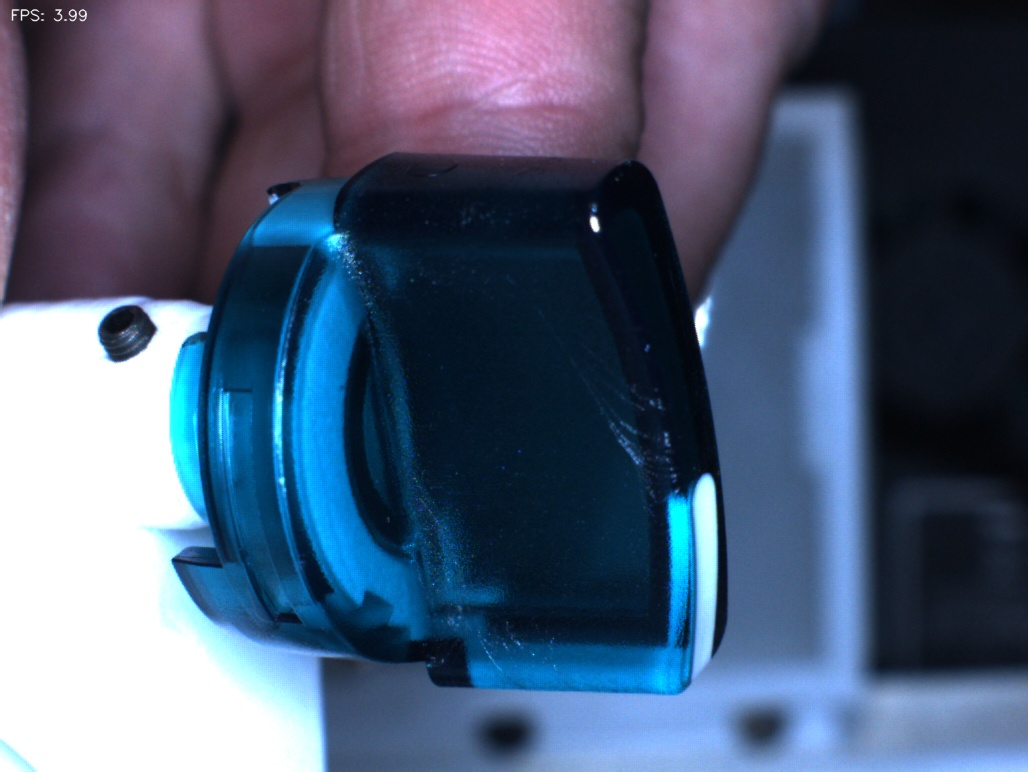Givrage: (467, 584, 568, 685)
